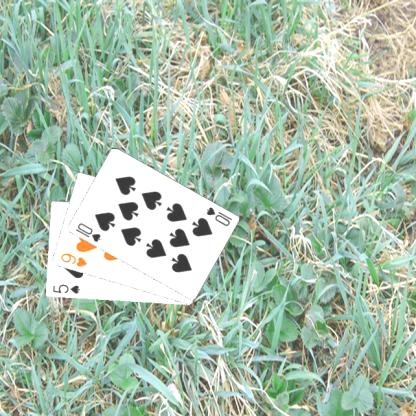10S: (72, 219, 102, 244), (203, 204, 233, 228)
5S: (49, 281, 81, 296)
9H: (58, 250, 88, 268)
